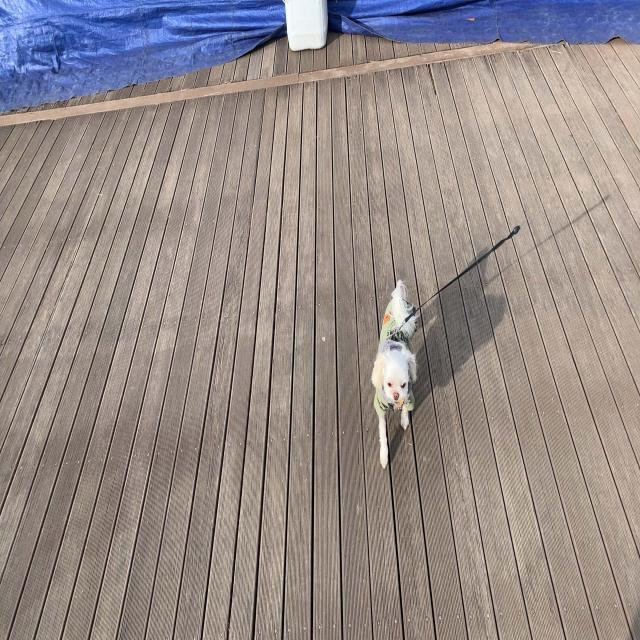Dog: (368, 273, 420, 471)
